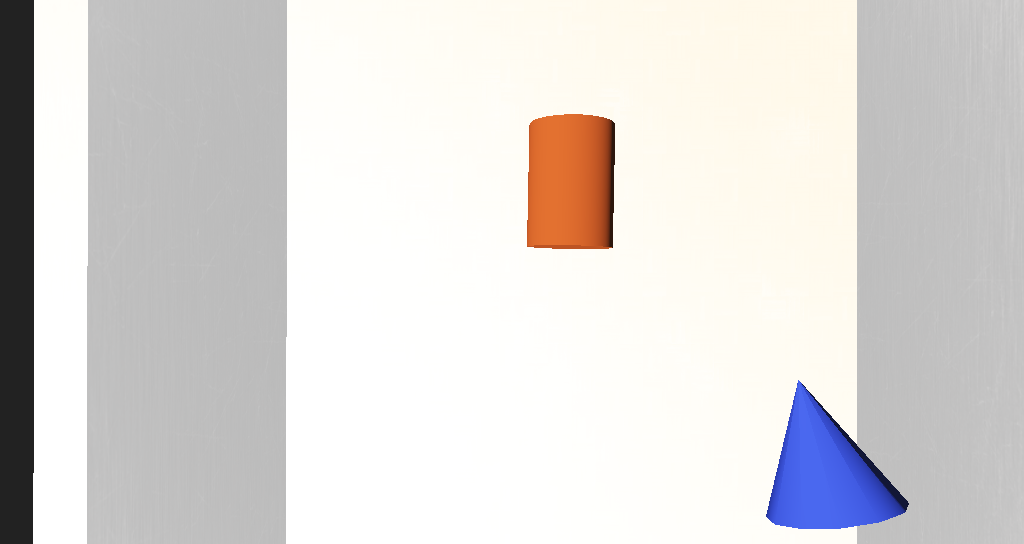cone: (482, 210, 529, 258)
cylinder: (579, 296, 674, 363)
sphere: (273, 375, 360, 437)
